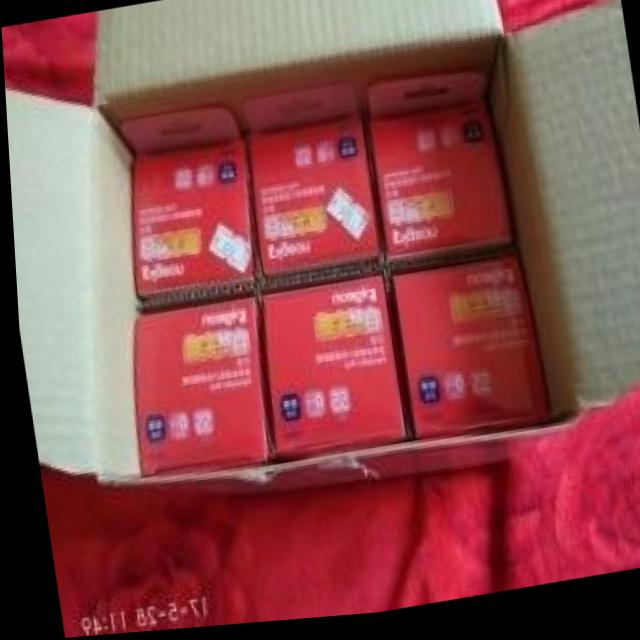box: (387, 260, 546, 446), (255, 279, 402, 464), (127, 301, 267, 477), (365, 106, 509, 269), (245, 123, 379, 281), (128, 137, 254, 299)
